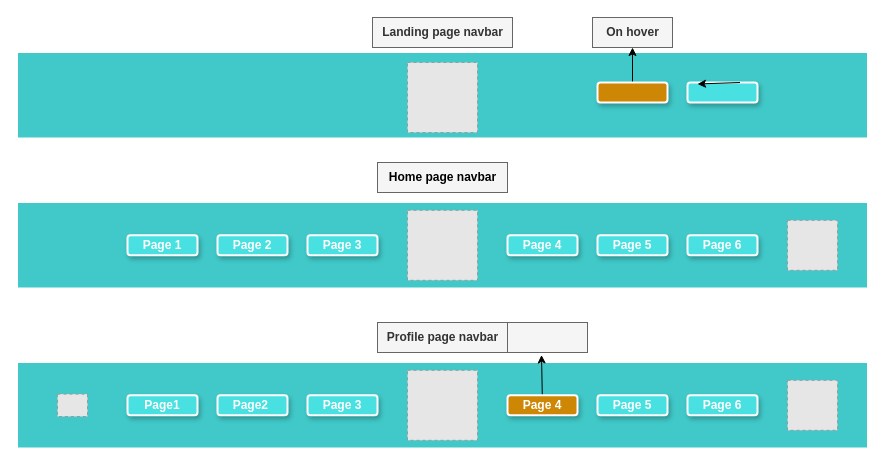
Some shapes in this 885 by 466 pixel diagram are drawn without their labels. Grey dashed boxes stand in for pictures. The centre of each missing label's shape, as x and y in pixels:
"Login" goes at pixel 633 93.
"On active" goes at pixel 547 337.
"Register" goes at pixel 723 93.
